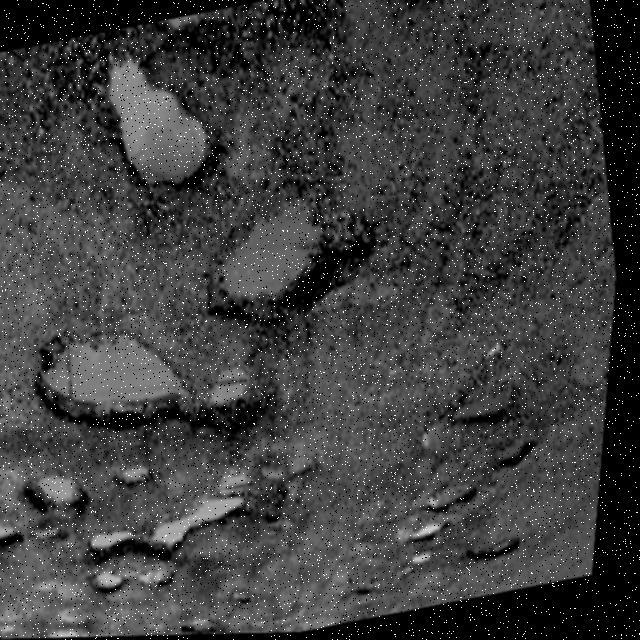pothole: (194, 180, 396, 356), (19, 305, 210, 453), (85, 38, 242, 216), (71, 481, 275, 612), (67, 586, 248, 638), (196, 346, 284, 447), (406, 468, 494, 550), (141, 1, 262, 52), (445, 377, 524, 443), (30, 461, 100, 521), (470, 522, 536, 580), (0, 499, 36, 564), (316, 604, 364, 632), (365, 0, 482, 10)
